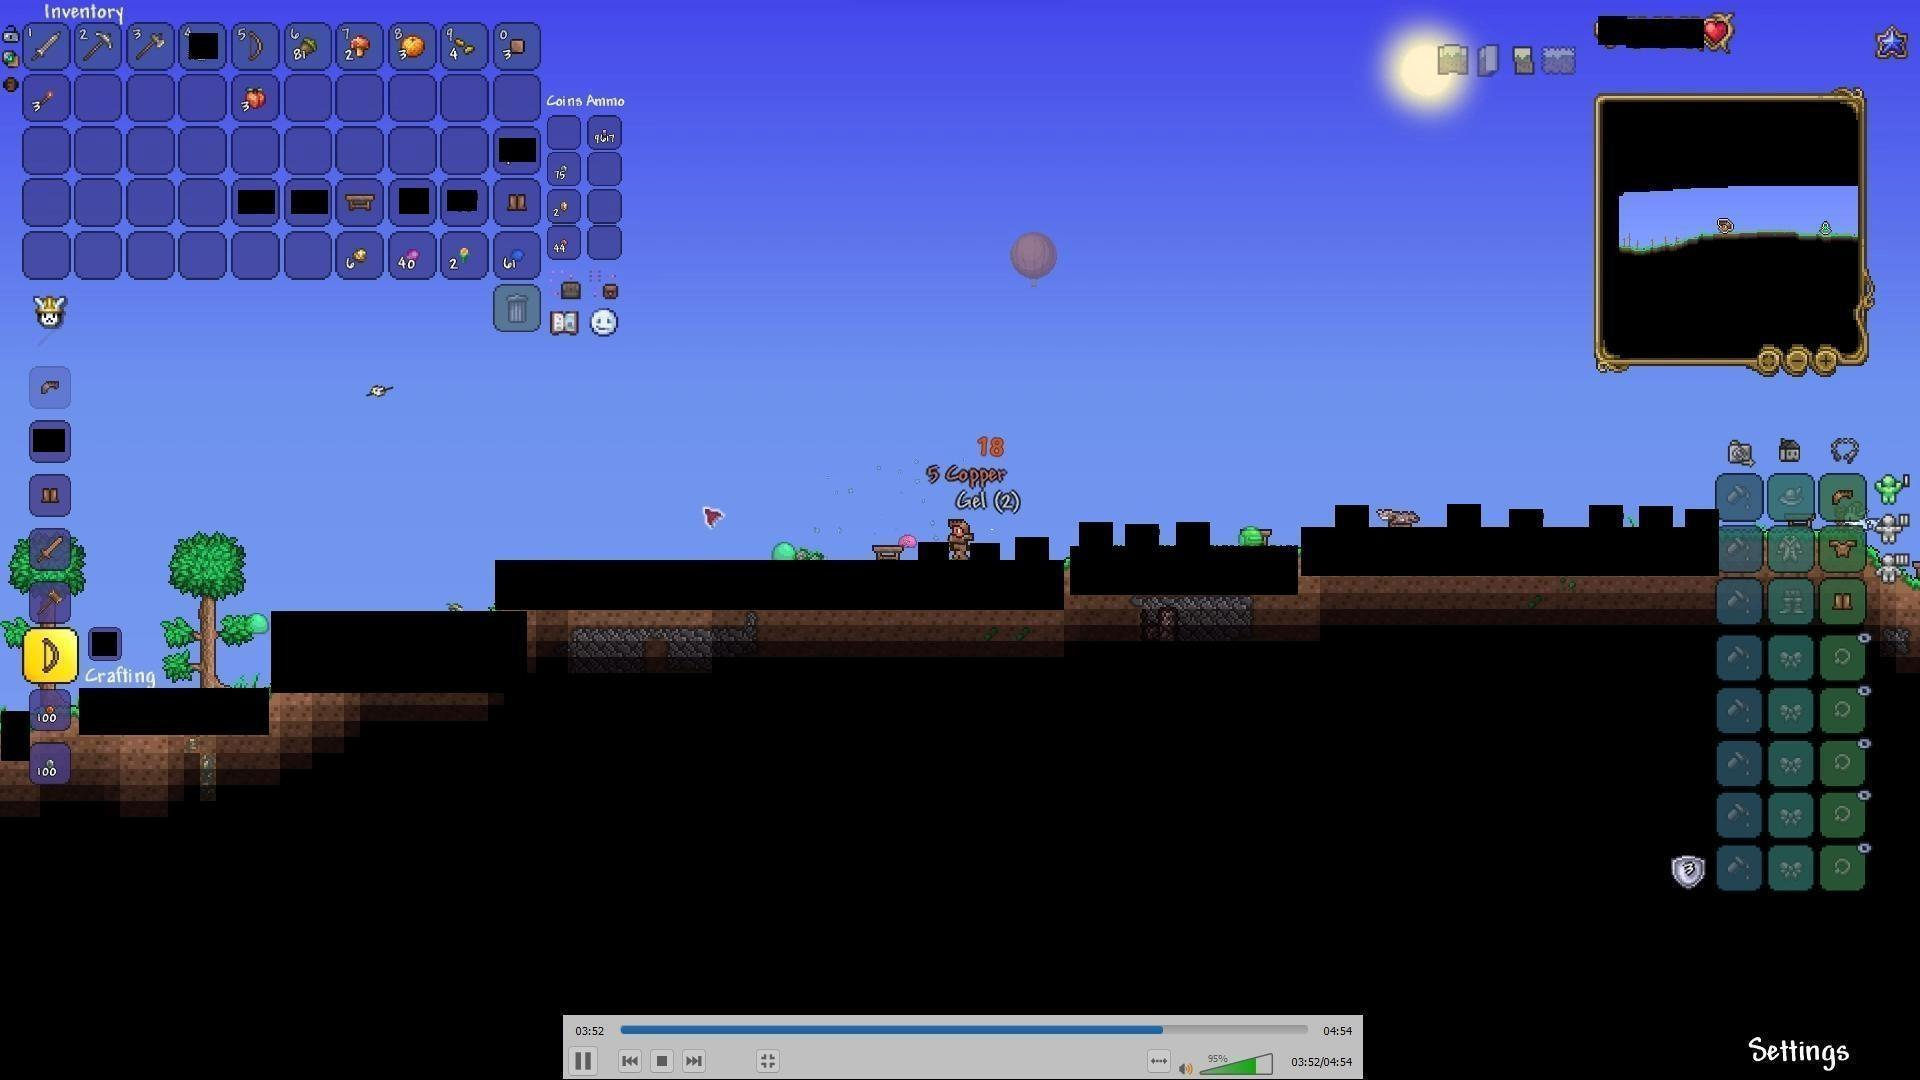breastplate: (1830, 537, 1859, 558)
heart: (1705, 18, 1731, 46)
helmet: (32, 375, 66, 402), (1829, 484, 1857, 509)
legs: (505, 186, 531, 214), (37, 483, 65, 508), (1832, 588, 1857, 615)
slime: (1234, 518, 1266, 546), (240, 609, 272, 637), (767, 543, 798, 563)
tree: (179, 527, 241, 687)
workbench: (342, 191, 378, 214), (872, 543, 901, 564)
